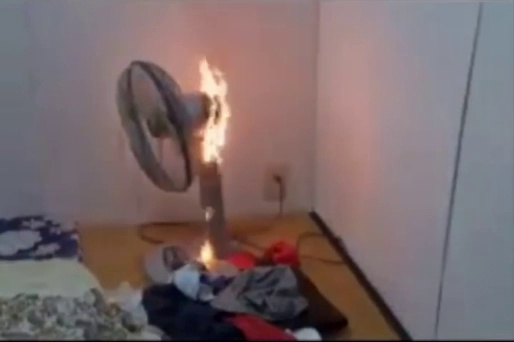fire: (191, 55, 236, 164)
